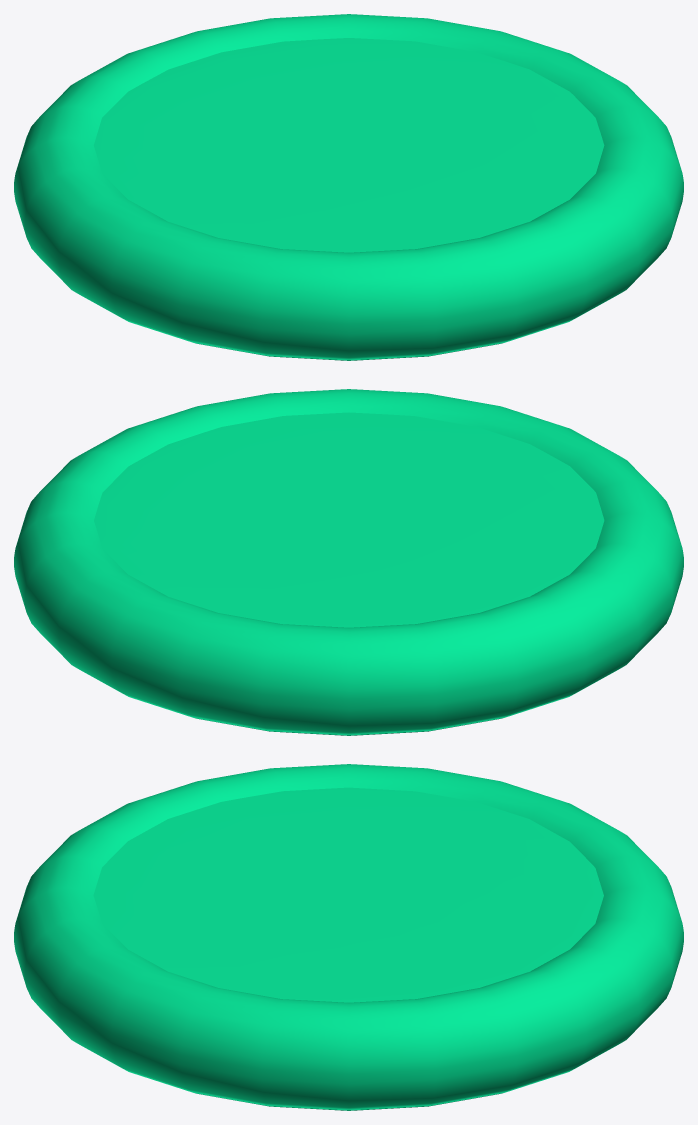
Rendered from CollisionForRoundPlatf.fbx.
3 renders of one model, top to bottom at view 1: azimuth 30°, elevation 25°; view 2: azimuth 150°, elevation 25°; view 3: azimuth 270°, elevation 25°, orthographic.
Parts seen in each view (by area): view 1: Exterior, Floor; view 2: Exterior, Floor; view 3: Exterior, Floor.
Boxes of the visible parts, left/top/right/bottom form: Exterior: left=14, top=14, right=683, bottom=360; Floor: left=93, top=38, right=604, bottom=252; Exterior: left=14, top=389, right=683, bottom=735; Floor: left=94, top=412, right=604, bottom=627; Exterior: left=14, top=764, right=683, bottom=1110; Floor: left=93, top=787, right=603, bottom=1002.
Bounding box in the file's own units: 943 × 154 × 943.
